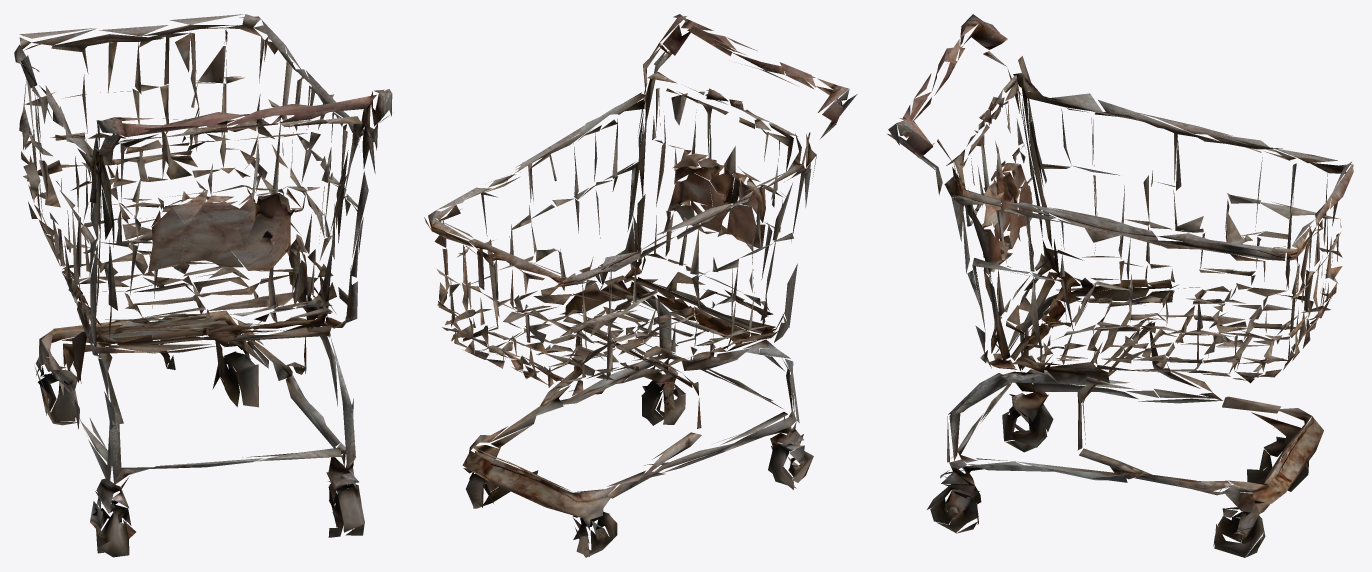
Rendered from shopping_cart.glb.
The picture shows the model from 3 angles, left to right: view 1: azimuth 30°, elevation 25°; view 2: azimuth 150°, elevation 25°; view 3: azimuth 270°, elevation 25°; orthographic projection. The views are drawn at different scales.
Parts seen in each view (by area): view 1: tripo_node_b8d8f789-f706-4526-9c3f-ee968304c80c; view 2: tripo_node_b8d8f789-f706-4526-9c3f-ee968304c80c; view 3: tripo_node_b8d8f789-f706-4526-9c3f-ee968304c80c.
Boxes of the visible parts, x1,y1,x2,y2 form: tripo_node_b8d8f789-f706-4526-9c3f-ee968304c80c: (14,14,392,557); tripo_node_b8d8f789-f706-4526-9c3f-ee968304c80c: (424,14,857,557); tripo_node_b8d8f789-f706-4526-9c3f-ee968304c80c: (887,14,1353,557).
Bounding box in the file's own units: 0.7533 × 0.996 × 1.02.
1 material, 1 textured.
